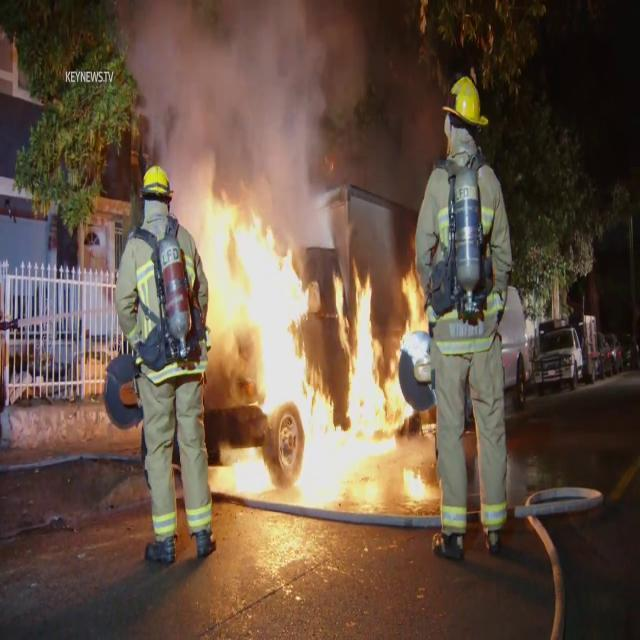Fire: (196, 175, 434, 500)
Smoke: (121, 0, 418, 204)
